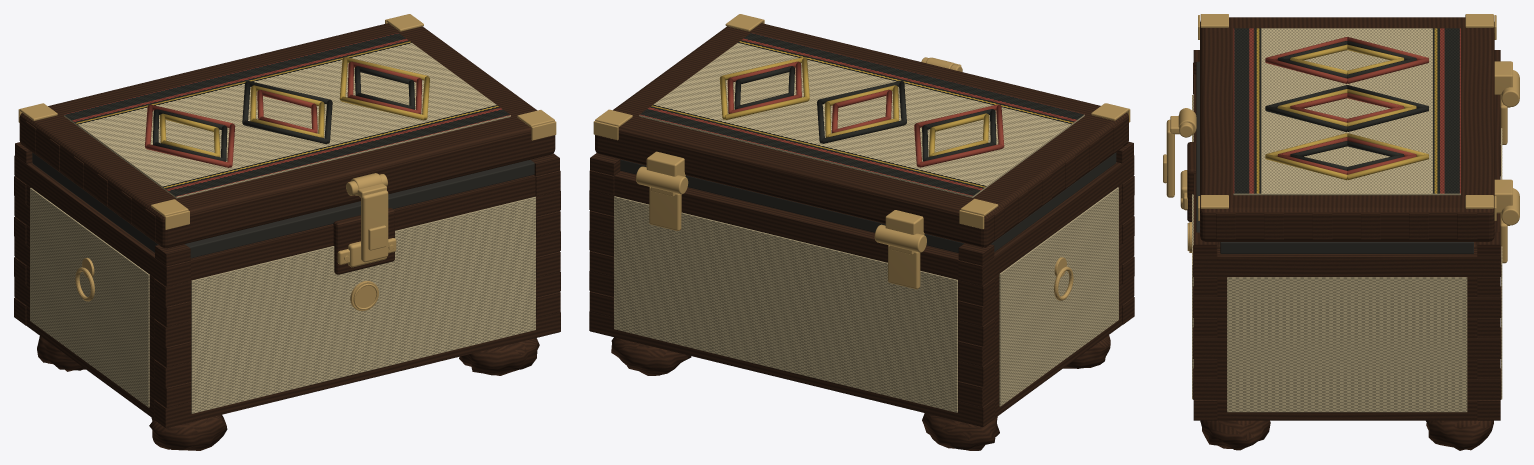
The model's file is sri-lanka.glb.
3 renders of one model, left to right at view 1: azimuth 30°, elevation 25°; view 2: azimuth 150°, elevation 25°; view 3: azimuth 270°, elevation 25°, orthographic.
Parts seen in each view (by area): view 1: Weave / broad front rear, Lid / polished slab, Weave / lid panel, Weave / broad side, Timber / front course 7, Mineral seam / long, Timber / front course 0, Timber / side course 7, Timber foot, Timber foot.002, Latch / lifting hasp, Timber / clasp seat (+11 smaller); view 2: Weave / broad front rear.001, Lid / polished slab, Weave / lid panel, Weave / broad side, Timber / rear course 7, Timber / rear course 0, Timber / side course 7, Mineral seam / long.001, Timber foot.001, Timber foot.003, Mineral seam / side, Timber / side course 0 (+15 smaller); view 3: Weave / broad side.001, Weave / lid panel, Lid / polished slab, Timber / side course 7.001, Mineral seam / side.001, Timber / side course 0.001, Timber foot.002, Timber foot.003, Timber / side course 5.001, Timber / side course 3.001, Timber / side course 1.001, Timber / rear course 7 (+38 smaller).
Part boxes in pixels (x1=…): Weave / broad front rear: x1=191, y1=196, x2=535, y2=413; Lid / polished slab: x1=19, y1=23, x2=555, y2=248; Weave / lid panel: x1=64, y1=33, x2=510, y2=198; Weave / broad side: x1=30, y1=188, x2=149, y2=407; Timber / front course 7: x1=190, y1=175, x2=535, y2=280; Mineral seam / long: x1=185, y1=159, x2=534, y2=258; Timber / front course 0: x1=155, y1=312, x2=559, y2=428; Timber / side course 7: x1=14, y1=156, x2=190, y2=286; Timber foot: x1=149, y1=415, x2=227, y2=450; Timber foot.002: x1=459, y1=338, x2=539, y2=375; Latch / lifting hasp: x1=361, y1=190, x2=388, y2=262; Timber / clasp seat: x1=333, y1=208, x2=394, y2=274; Weave / broad front rear.001: x1=614, y1=196, x2=957, y2=412; Lid / polished slab: x1=595, y1=23, x2=1128, y2=247; Weave / lid panel: x1=639, y1=33, x2=1084, y2=197; Weave / broad side: x1=999, y1=187, x2=1118, y2=406; Timber / rear course 7: x1=614, y1=171, x2=958, y2=279; Timber / rear course 0: x1=590, y1=311, x2=993, y2=426; Timber / side course 7: x1=959, y1=155, x2=1133, y2=285; Mineral seam / long.001: x1=620, y1=159, x2=964, y2=252; Timber foot.001: x1=922, y1=413, x2=999, y2=450; Timber foot.003: x1=611, y1=337, x2=691, y2=375; Mineral seam / side: x1=991, y1=152, x2=1116, y2=251; Timber / side course 0: x1=994, y1=305, x2=1122, y2=417; Weave / broad side.001: x1=1227, y1=277, x2=1467, y2=412; Weave / lid panel: x1=1233, y1=28, x2=1460, y2=195; Lid / polished slab: x1=1200, y1=17, x2=1494, y2=241; Timber / side course 7.001: x1=1194, y1=249, x2=1500, y2=277; Mineral seam / side.001: x1=1220, y1=242, x2=1473, y2=253; Timber / side course 0.001: x1=1217, y1=400, x2=1477, y2=420; Timber foot.002: x1=1200, y1=420, x2=1270, y2=450; Timber foot.003: x1=1426, y1=420, x2=1493, y2=450; Timber / side course 5.001: x1=1194, y1=297, x2=1500, y2=318; Timber / side course 3.001: x1=1194, y1=338, x2=1500, y2=359; Timber / side course 1.001: x1=1194, y1=379, x2=1500, y2=399; Timber / rear course 7: x1=1494, y1=95, x2=1500, y2=232.
Size of the model in its own units: 3.8 by 2.35 by 2.88.
Materials: 9 (4 with a texture image).
